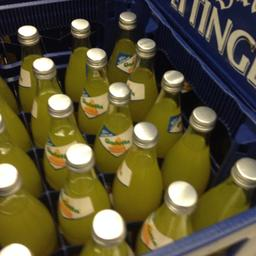soda: (110, 120, 164, 222), (56, 142, 110, 240), (160, 104, 215, 191), (42, 92, 82, 186), (92, 84, 132, 170), (122, 36, 156, 122)
